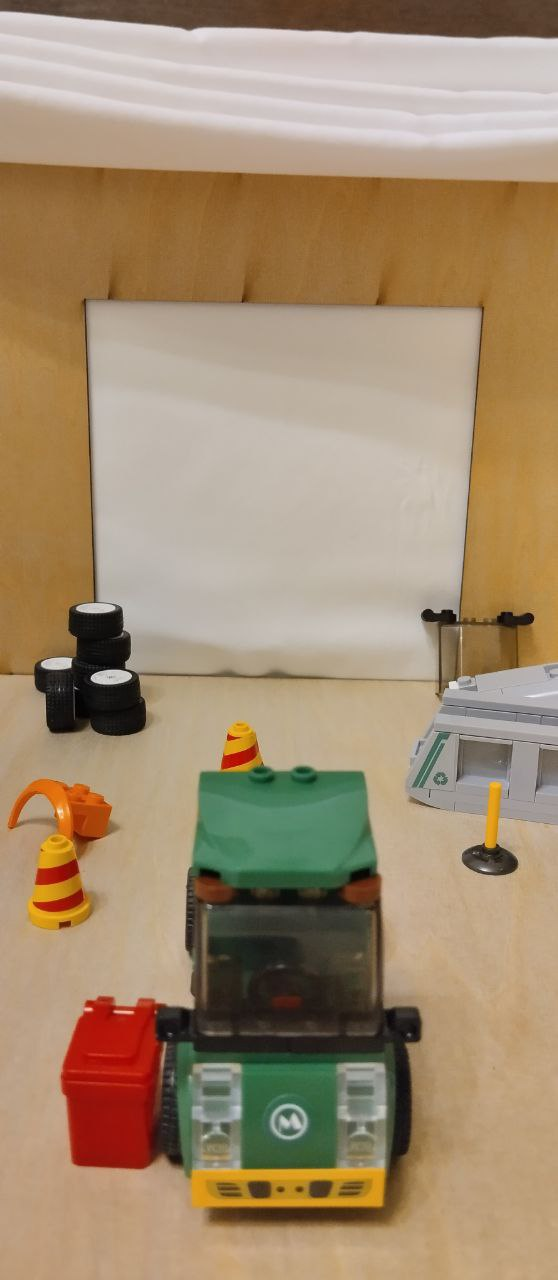Cone: (26, 824, 97, 935), (217, 717, 280, 785)
Object Red: (54, 996, 173, 1167)
Truck: (171, 765, 439, 1220)
